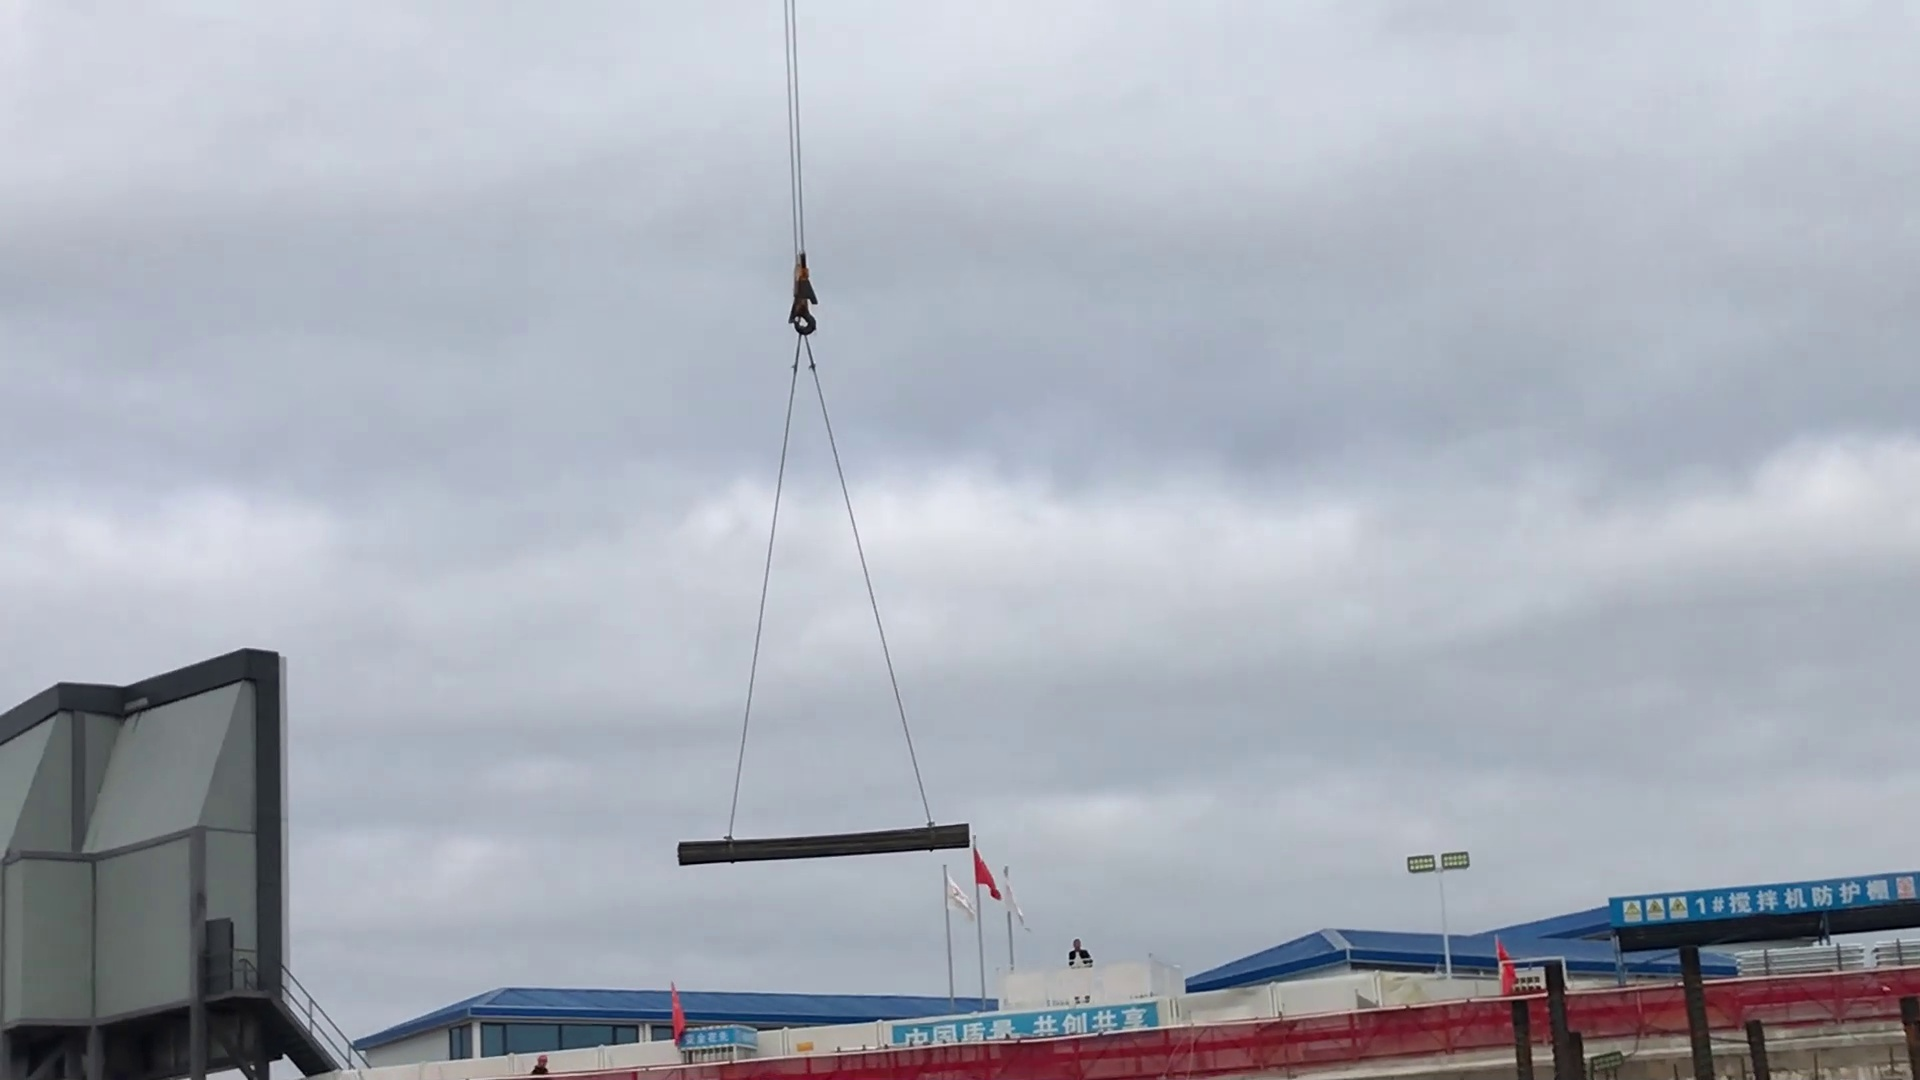fence: (647, 959, 1907, 1080)
hook: (775, 255, 841, 352)
rebar: (669, 808, 984, 893)
slogan: (890, 994, 1166, 1047)
